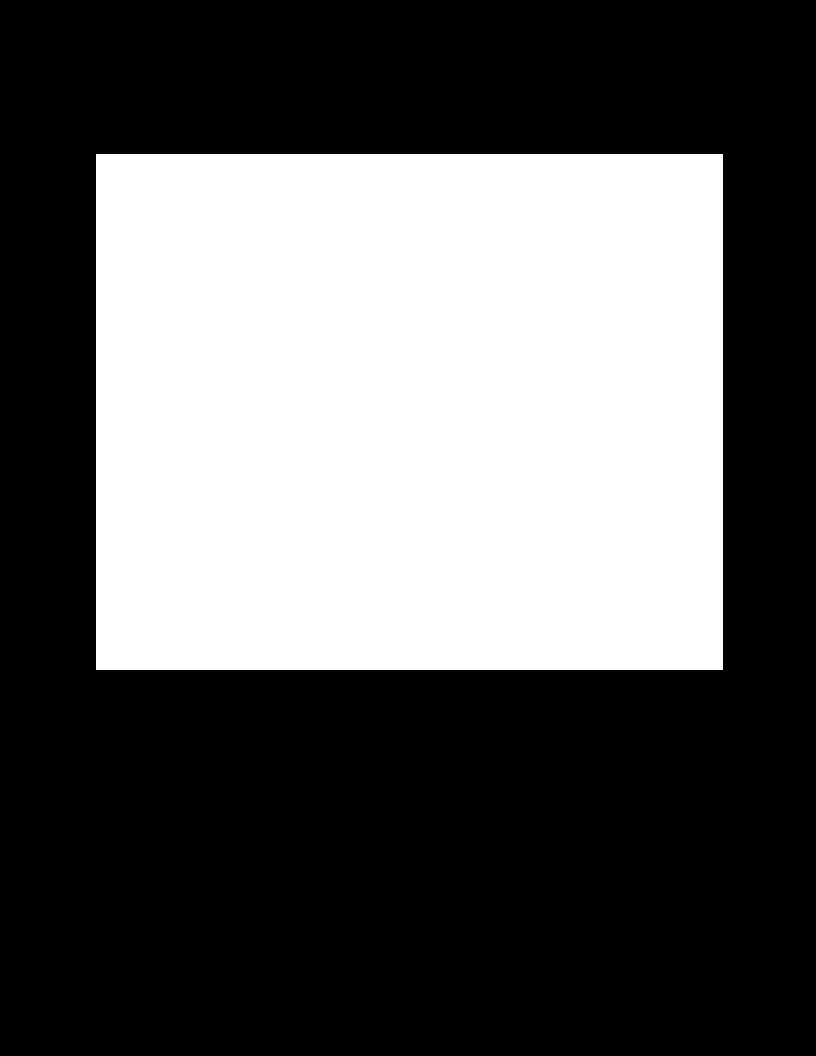table: (96, 154, 722, 669)
